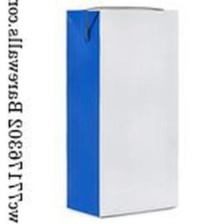carton: (55, 3, 183, 219)
